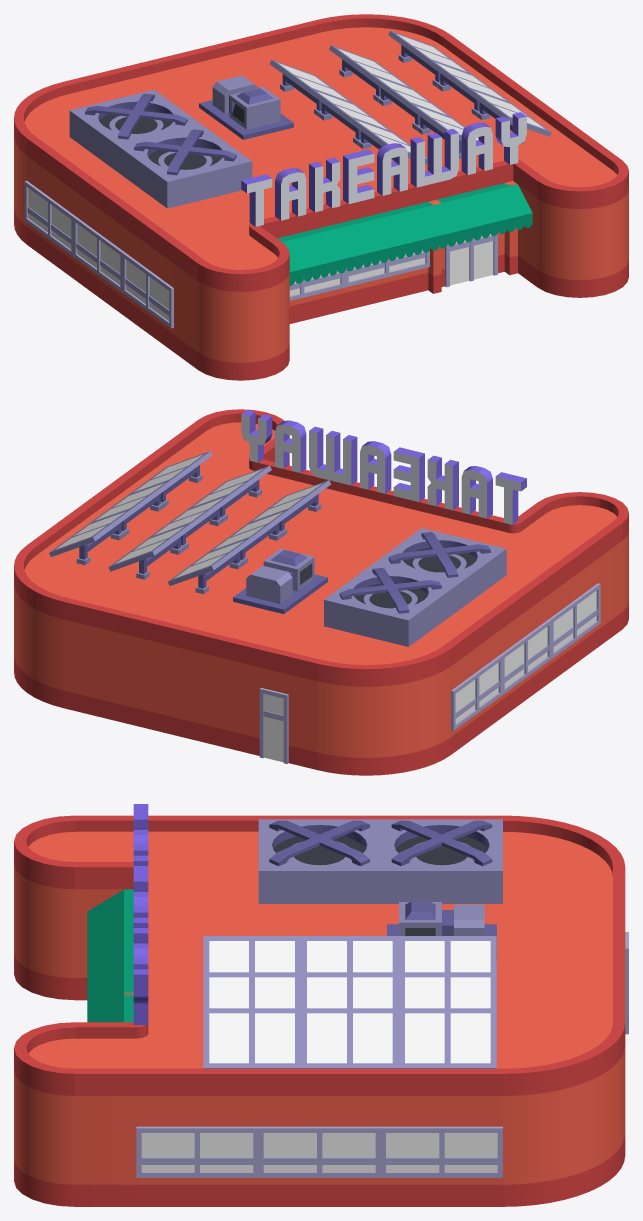
Rendered from restaurant.fbx.
3 views of the same model, one above another, from view 1: azimuth 30°, elevation 25°; view 2: azimuth 150°, elevation 25°; view 3: azimuth 270°, elevation 25° (orthographic). The views are drawn at different scales.
Visible parts, largest first — view 1: mergedBlocks; view 2: mergedBlocks; view 3: mergedBlocks.
Part boxes in pixels (<box>): mergedBlocks: <box>14,14,628,380</box>; mergedBlocks: <box>14,409,628,775</box>; mergedBlocks: <box>14,804,628,1206</box>.
Size of the model in its own units: 50.6 by 17 by 50.3.
